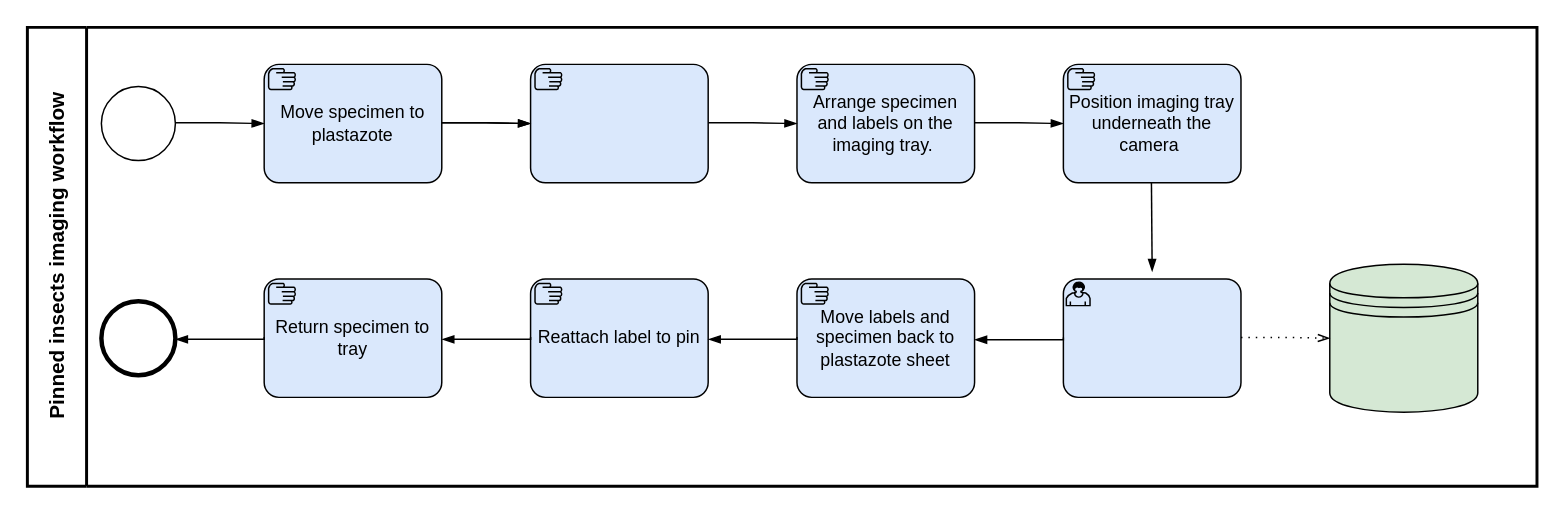
Some shapes in this 1563 by 512 pixel diagram are drawn without their labels. The shapes that lost their labels are listed below. From the top down, each one's centre as x and y in pixels, then its label:
At point 618,123: "Remove labels from pin".
At point 1151,337: "Take image".
At point 1403,337: "Image folder".
